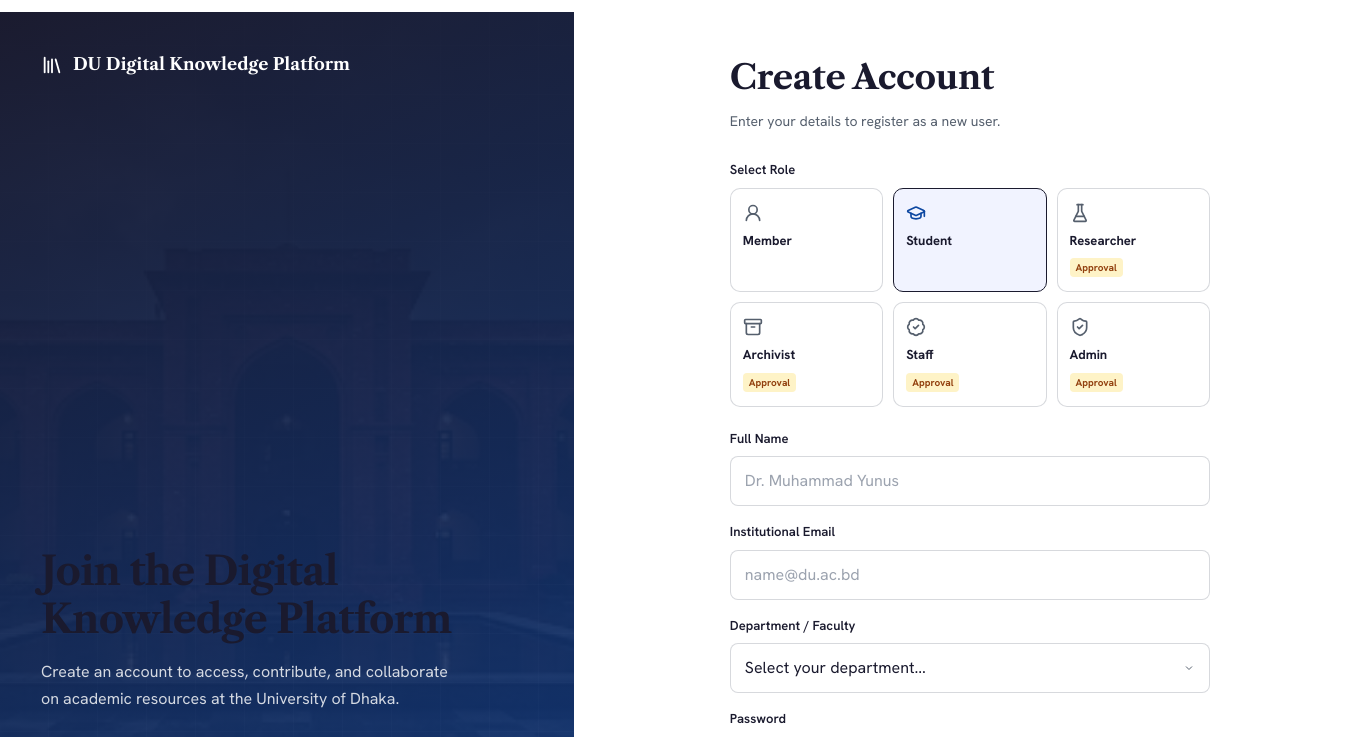
Test case: RegisterPage › shows a registration error message returned by the server
Type "Jane Doe" into the field with placeholder "Dr. Muhammad Yunus".
click(970, 481); type("Jane Doe")  # box left=730, top=456, right=1210, bottom=506
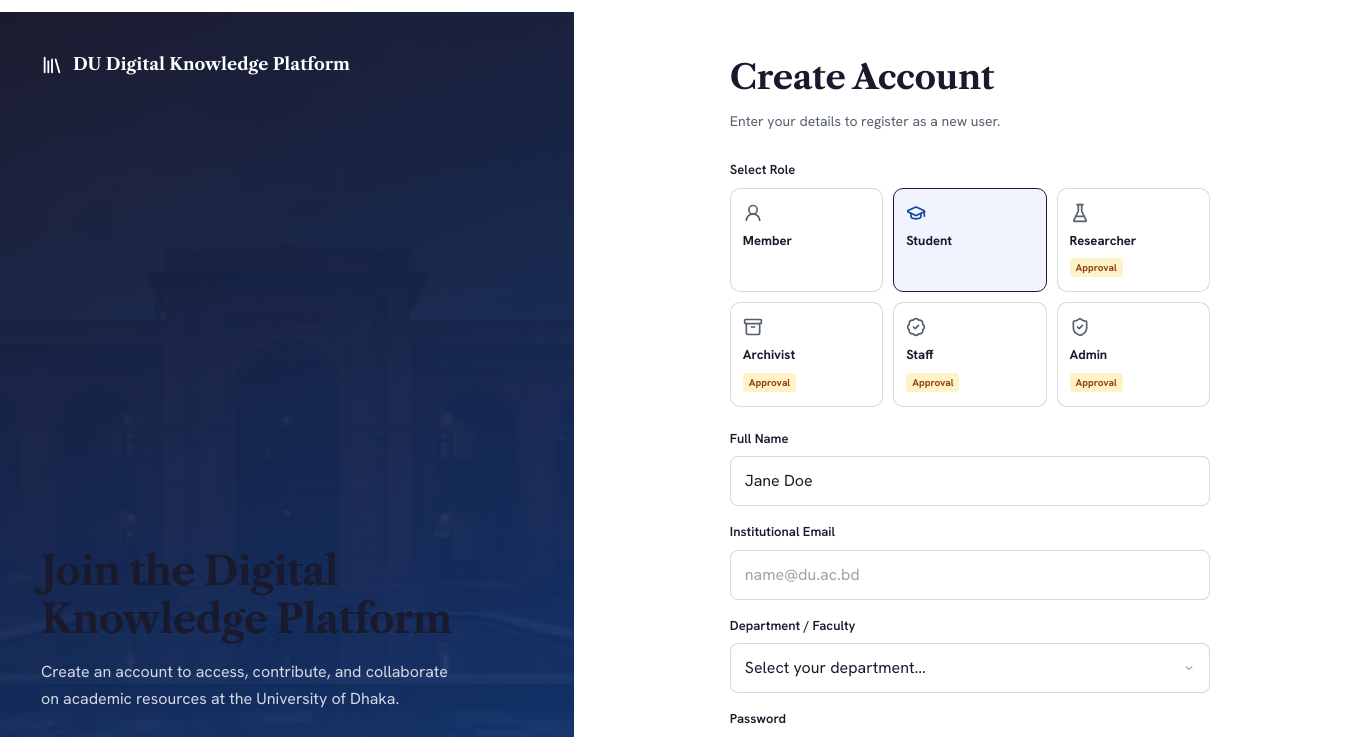
Type "jane@example.com" into the field with placeholder "name@du.ac.bd".
click(970, 574); type("jane@example.com")  # box left=730, top=550, right=1210, bottom=600
(page scrolled)
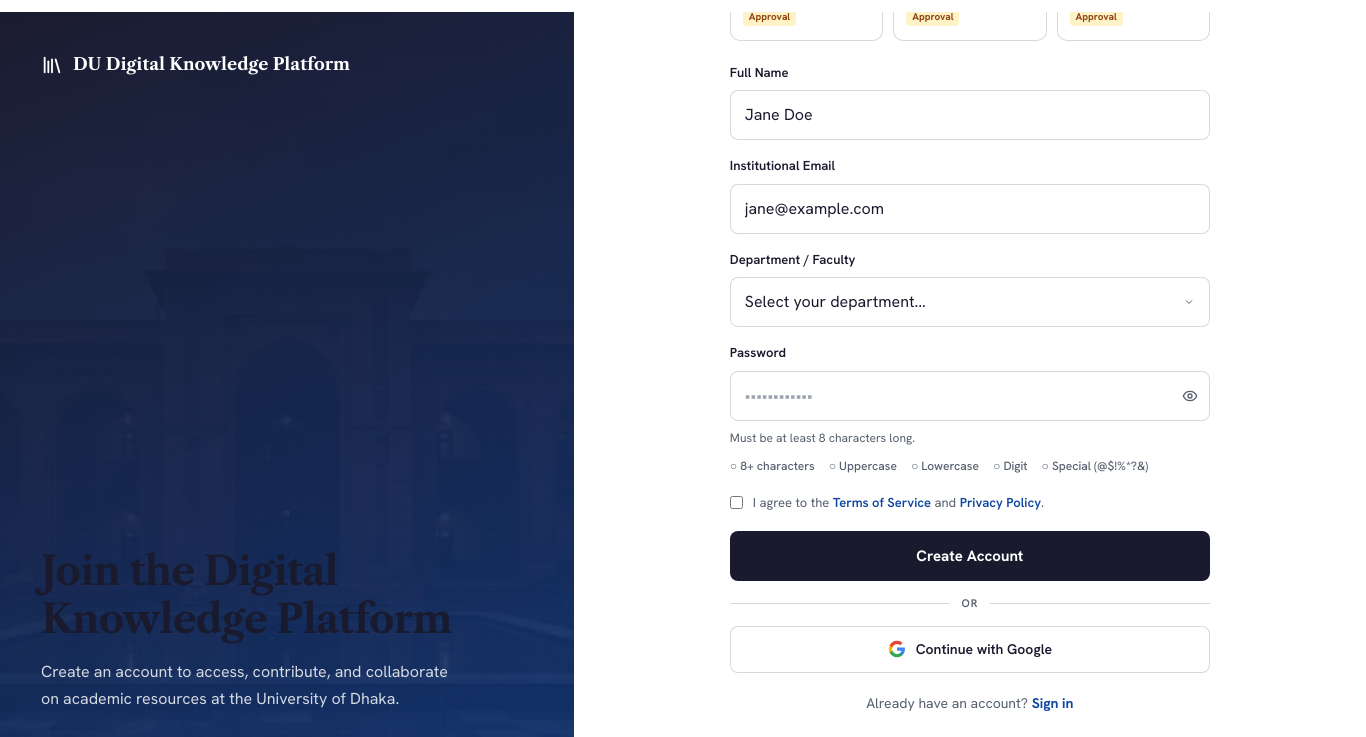
Type "Abcdef1$" into the password field with placeholder "••••••••••••".
click(970, 396); type("Abcdef1$")  # box left=730, top=370, right=1210, bottom=420
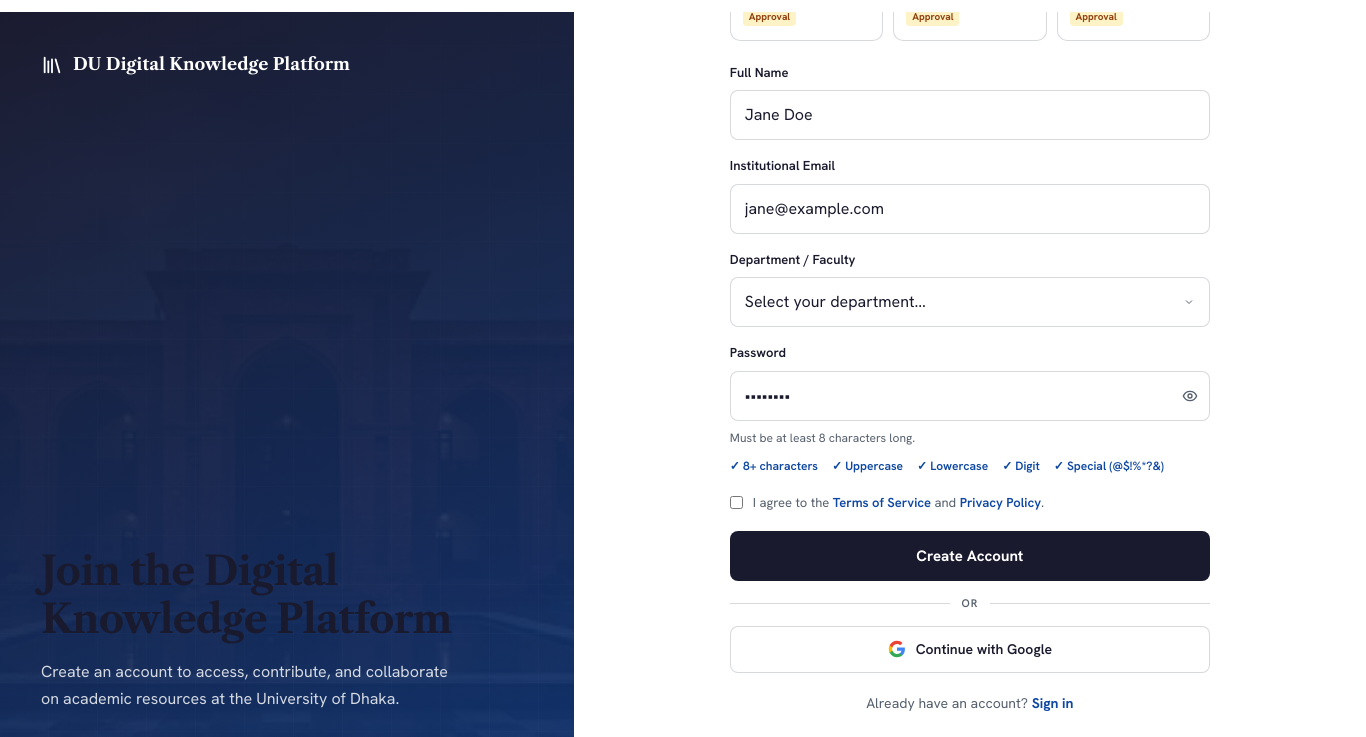
Click the checkbox.
click(736, 502)  # box left=730, top=496, right=743, bottom=508
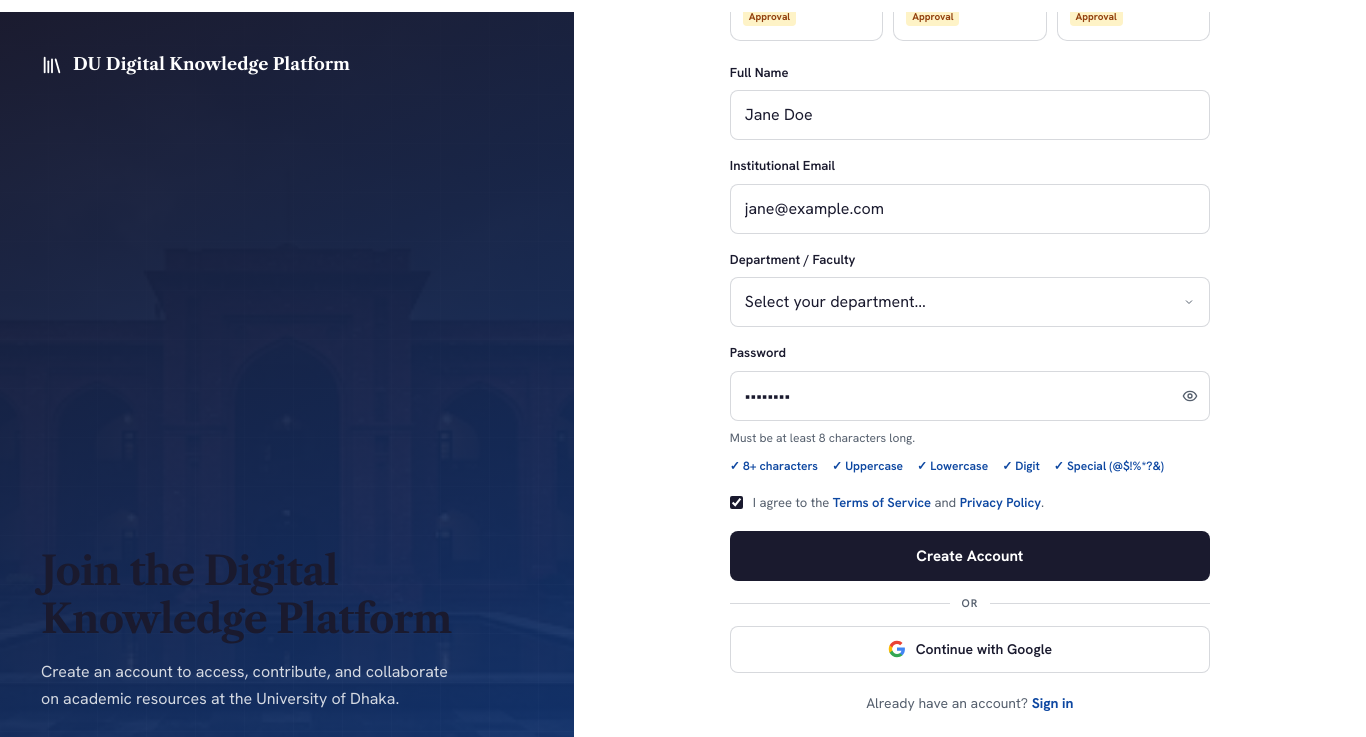
Click the button "Create Account".
click(970, 556)  # box left=730, top=531, right=1210, bottom=581
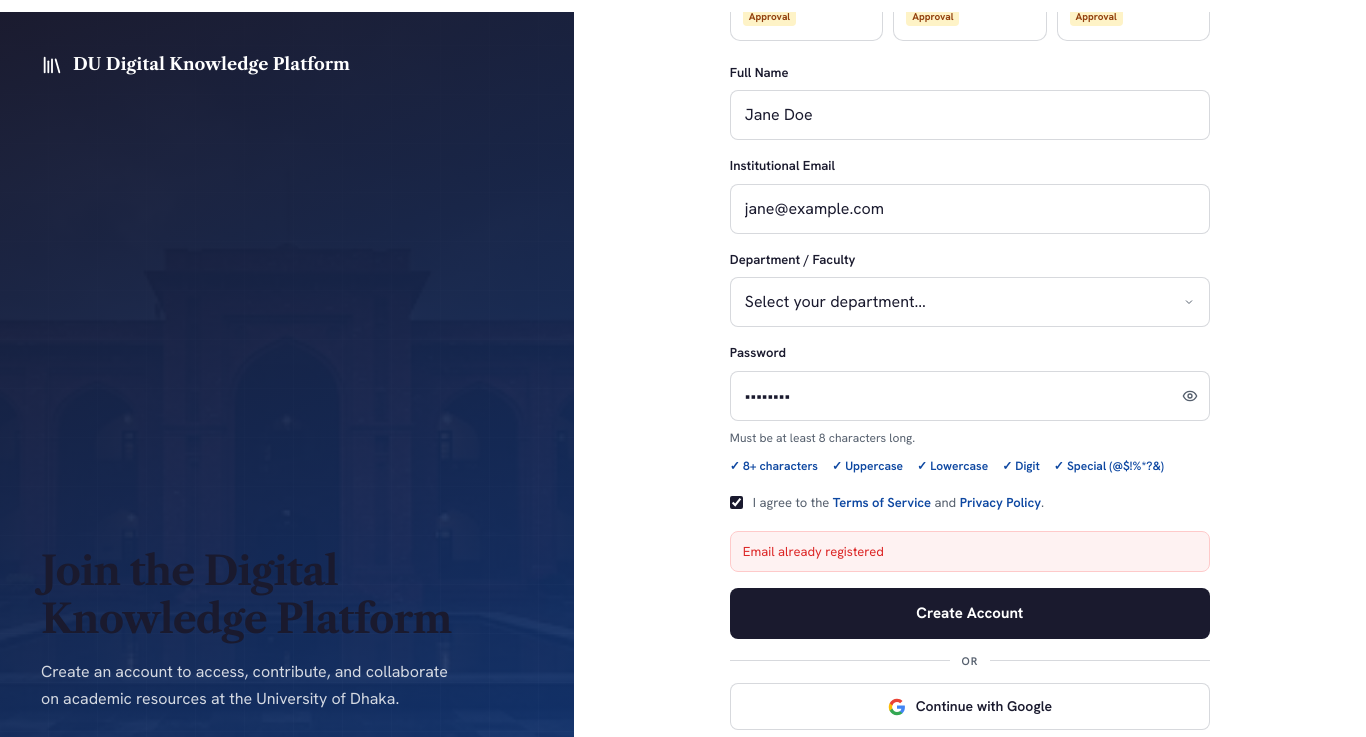
Check: the text "Email already registered" is shown, box left=730, top=531, right=1210, bottom=572
